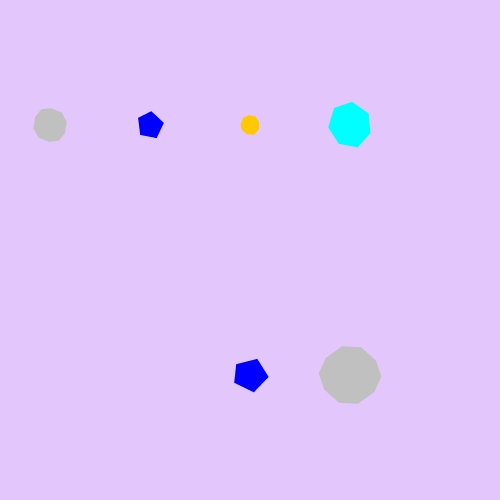decagon: (316, 344, 385, 407), (28, 105, 72, 145)
heptagon: (324, 100, 376, 150)
nonagon: (236, 111, 265, 139)
pentagon: (230, 355, 271, 396), (133, 108, 167, 142)
